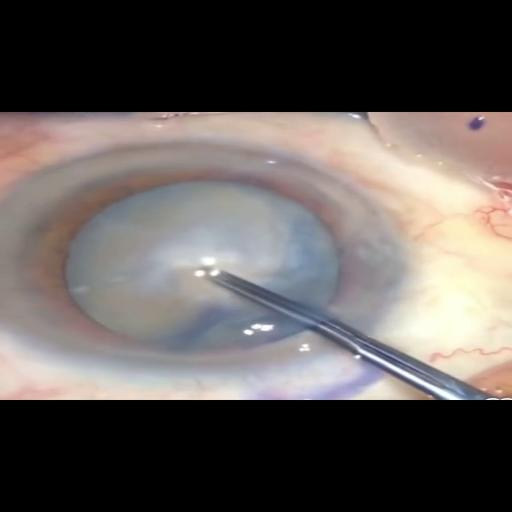catarata: (68, 179, 336, 342)
cornea: (0, 140, 393, 378)
pupil: (28, 166, 366, 361)
